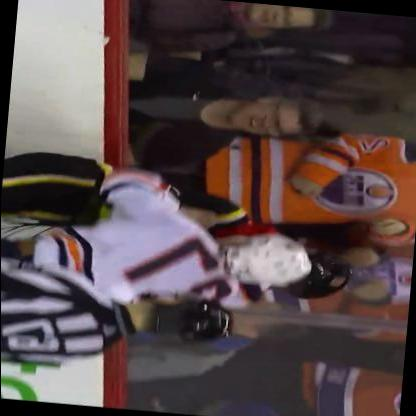non-Voilence: (117, 50, 316, 182), (121, 1, 328, 61)
voilence: (1, 154, 357, 320)
